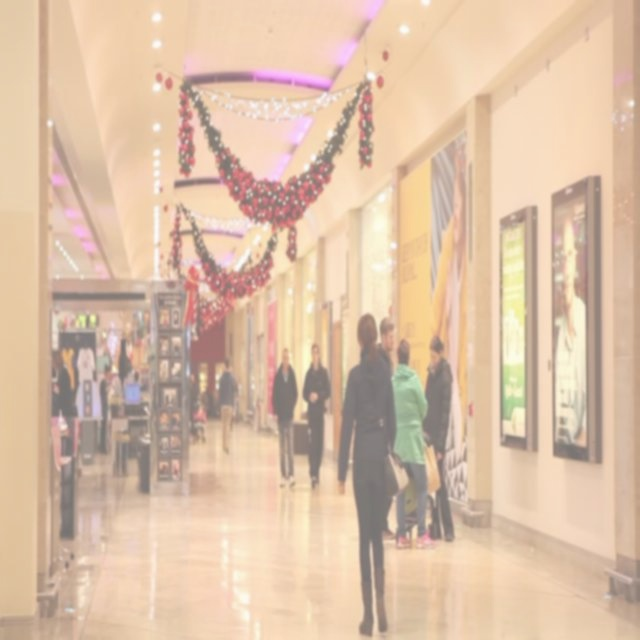pessoa: (336, 312, 399, 639), (392, 338, 436, 550), (552, 214, 588, 446), (418, 332, 456, 543), (274, 486, 330, 624), (431, 137, 468, 340), (408, 541, 479, 639), (302, 342, 332, 492), (270, 346, 299, 490), (446, 338, 466, 501), (95, 465, 119, 552), (48, 348, 76, 420), (186, 366, 214, 438), (217, 356, 236, 456), (98, 362, 114, 458), (376, 314, 398, 378), (226, 362, 243, 434), (118, 336, 134, 391)
